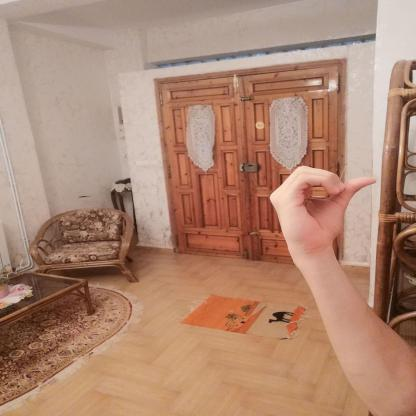WAW: (257, 159, 389, 261)
